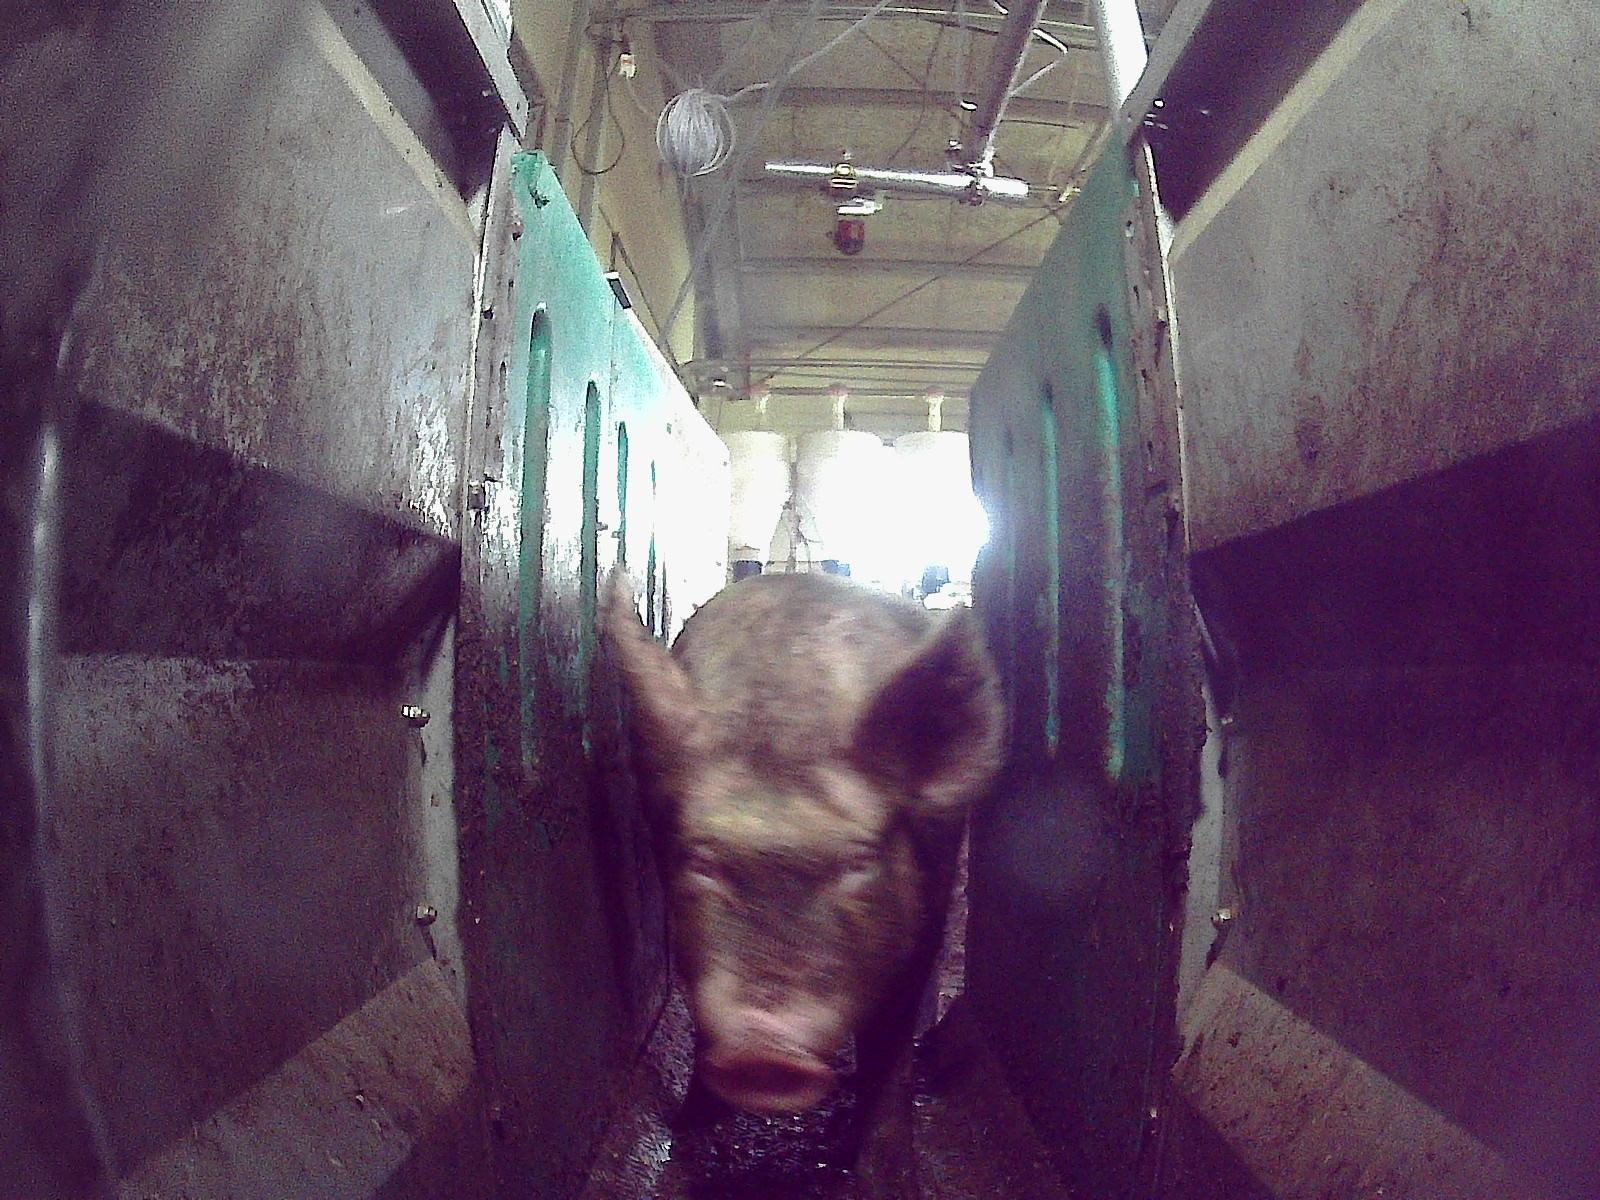Face: (662, 692, 936, 1114)
